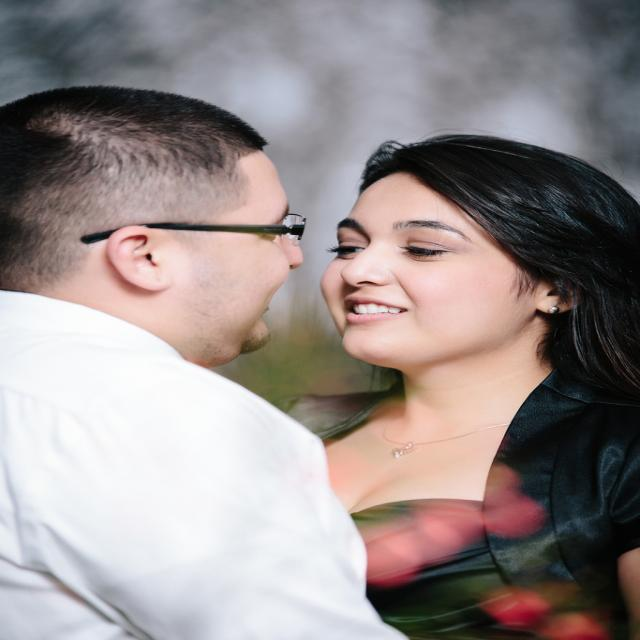Glasses: (64, 205, 325, 256)
